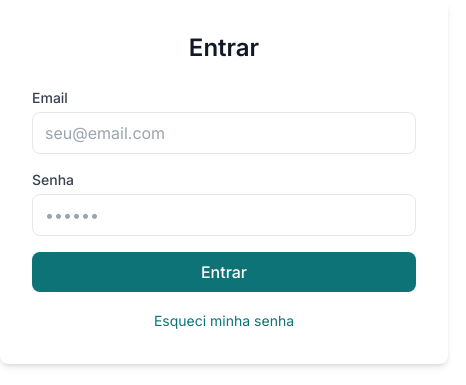
Test: LoginForm › loading state › shows 'Entrando...' text and disables button while login is in progress
Type "user@example.com" into the field labelled "Email" at (224, 133), box x1=32 y1=112 x2=416 y2=154
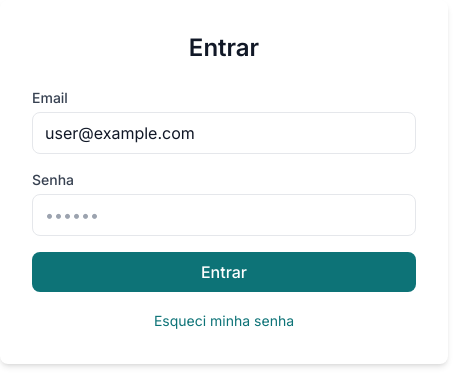
Type "password123" into the password field labelled "Senha" at (224, 215), box x1=32 y1=194 x2=416 y2=236
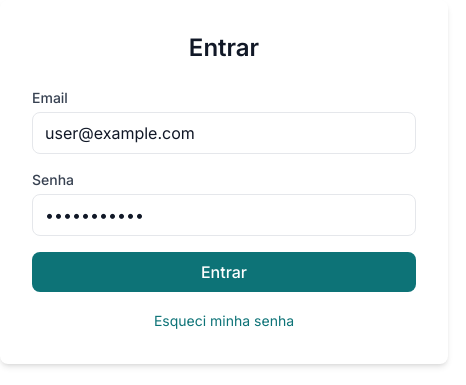
Click the button "Entrar" at (224, 272), box x1=32 y1=252 x2=416 y2=292
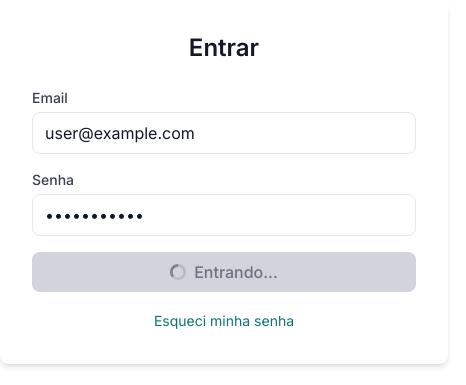
Result: the button "Entrando..." is disabled at x1=32 y1=252 x2=416 y2=292
